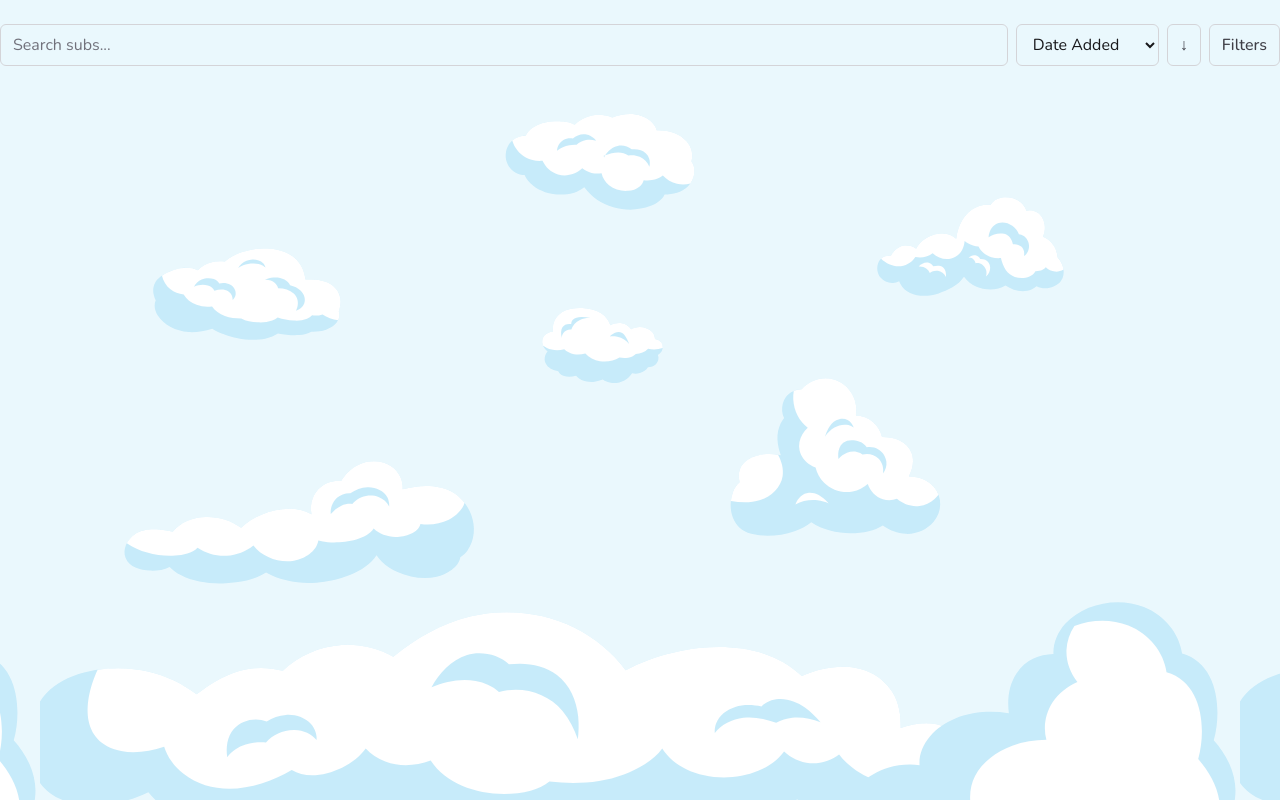
Test: SubsFilters › renders available tags in filter panel
The width and height of the screenshot is (1280, 800).
Click the button named "Toggle filters": click(1244, 45) [1209,24,1279,66]
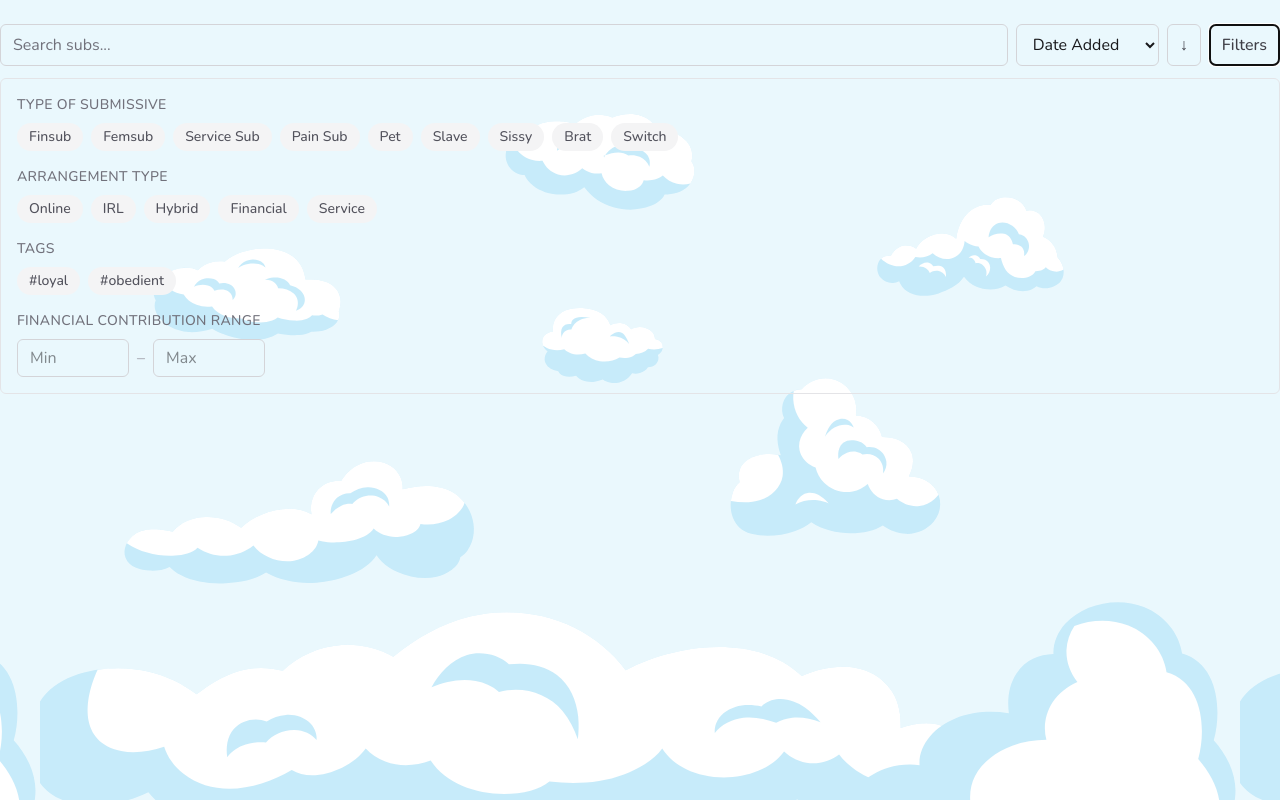
expect the button "#loyal" is shown: met, box [17,267,80,295]
expect the button "#obedient" is shown: met, box [88,267,176,295]
